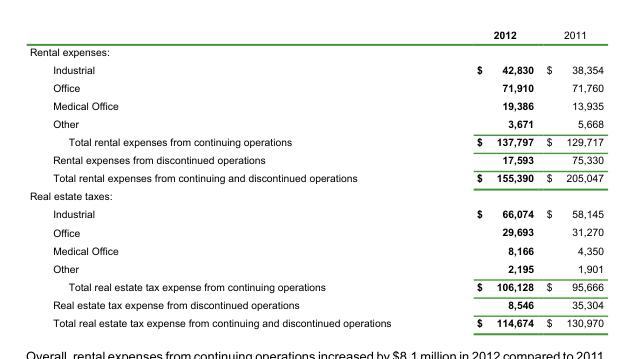table: (28, 29, 602, 328)
table column: (28, 29, 433, 328), (433, 29, 539, 328), (539, 29, 602, 328)
table column header: (28, 29, 602, 42)
table projected row header: (28, 42, 602, 60), (28, 186, 602, 204)
table row: (28, 240, 602, 259), (28, 42, 602, 60), (28, 60, 602, 78), (28, 78, 602, 96), (28, 96, 602, 114), (28, 114, 602, 132), (28, 132, 602, 150), (28, 150, 602, 168), (28, 168, 602, 186), (28, 186, 602, 204), (28, 204, 602, 222), (28, 222, 602, 240), (28, 259, 602, 277), (28, 277, 602, 295), (28, 295, 602, 313), (28, 313, 602, 328), (28, 29, 602, 42)
